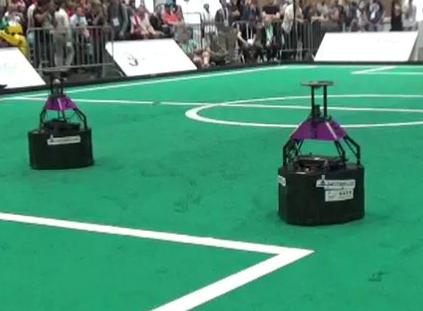robot: (277, 77, 369, 228), (23, 65, 98, 172)
